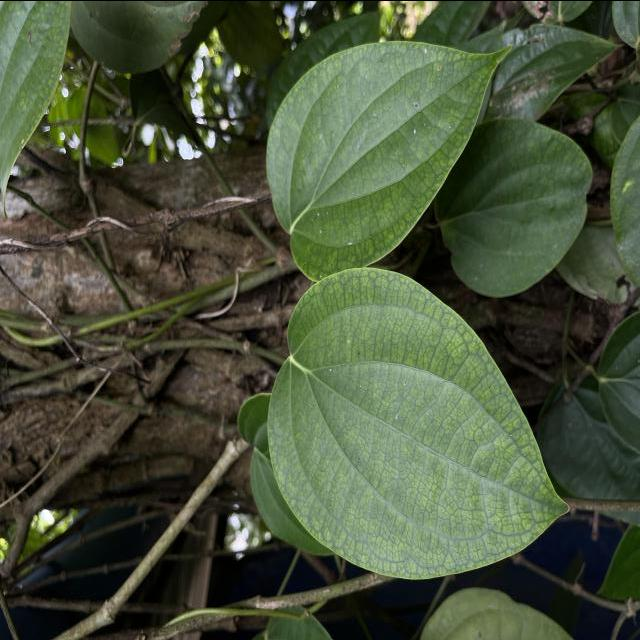Piper nigrum: (265, 265, 572, 581), (262, 35, 514, 282)
